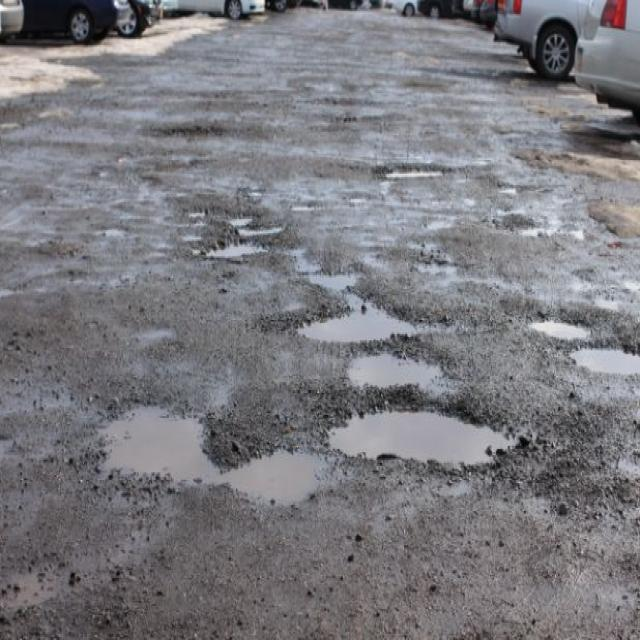pothole: (92, 392, 329, 509), (319, 390, 521, 474), (271, 296, 439, 338), (337, 348, 452, 391), (192, 212, 282, 262), (559, 340, 638, 376), (520, 306, 590, 344)
